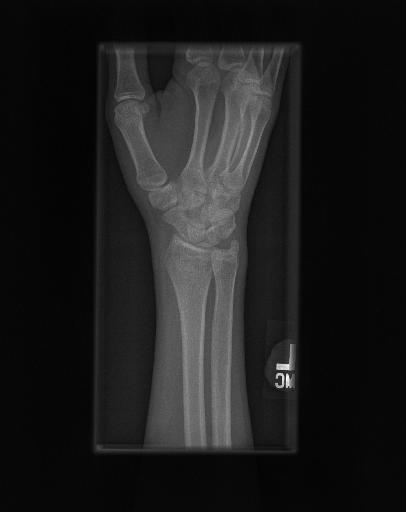fractured: (164, 247, 213, 278)
